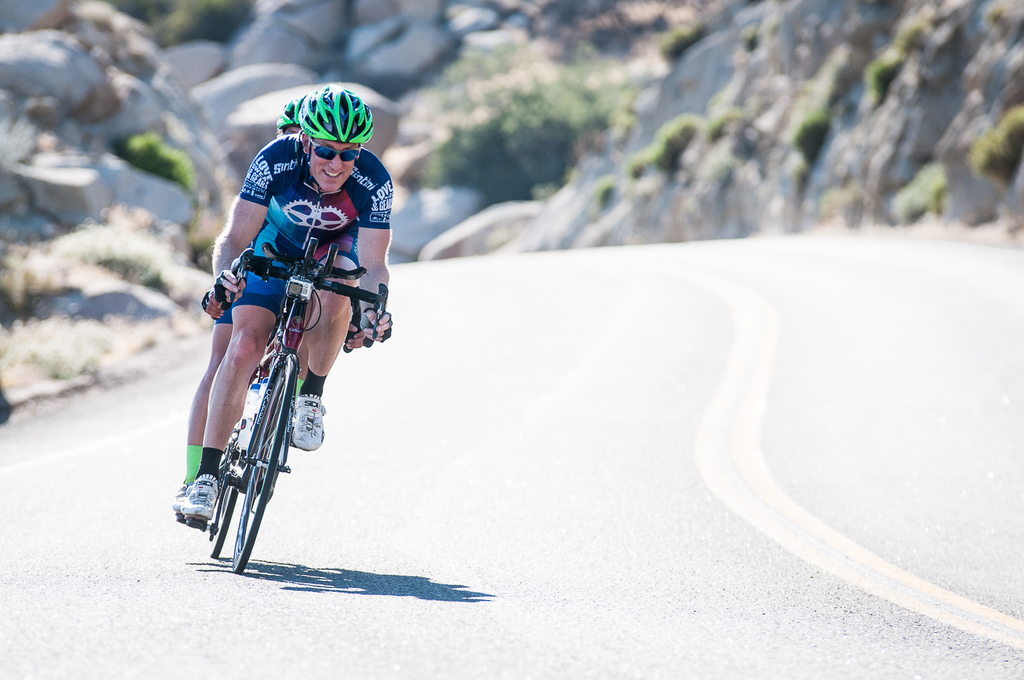Bike_toward: (198, 253, 375, 580)
